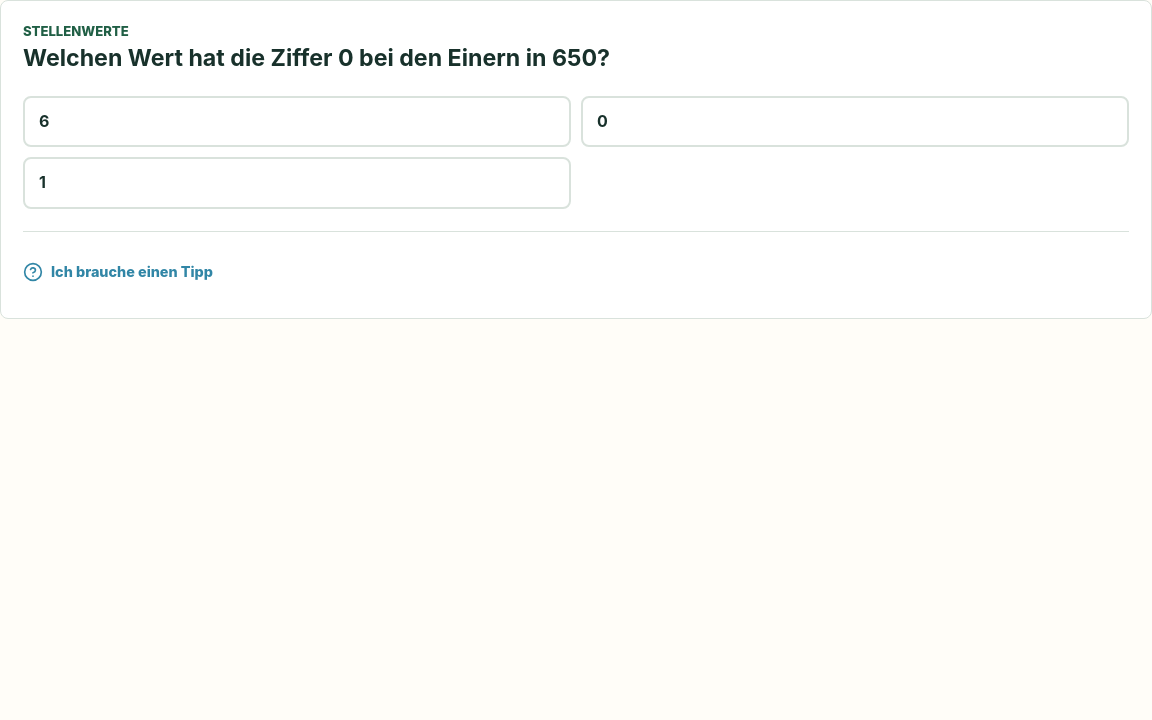
Scenario: ExerciseCard › blendet eine Hilfe-Darstellung erst mit dem Tipp ein
This screenshot has width=1152, height=720.
Click the button "Ich brauche einen Tipp" at (118,272), box [23,248,213,296]
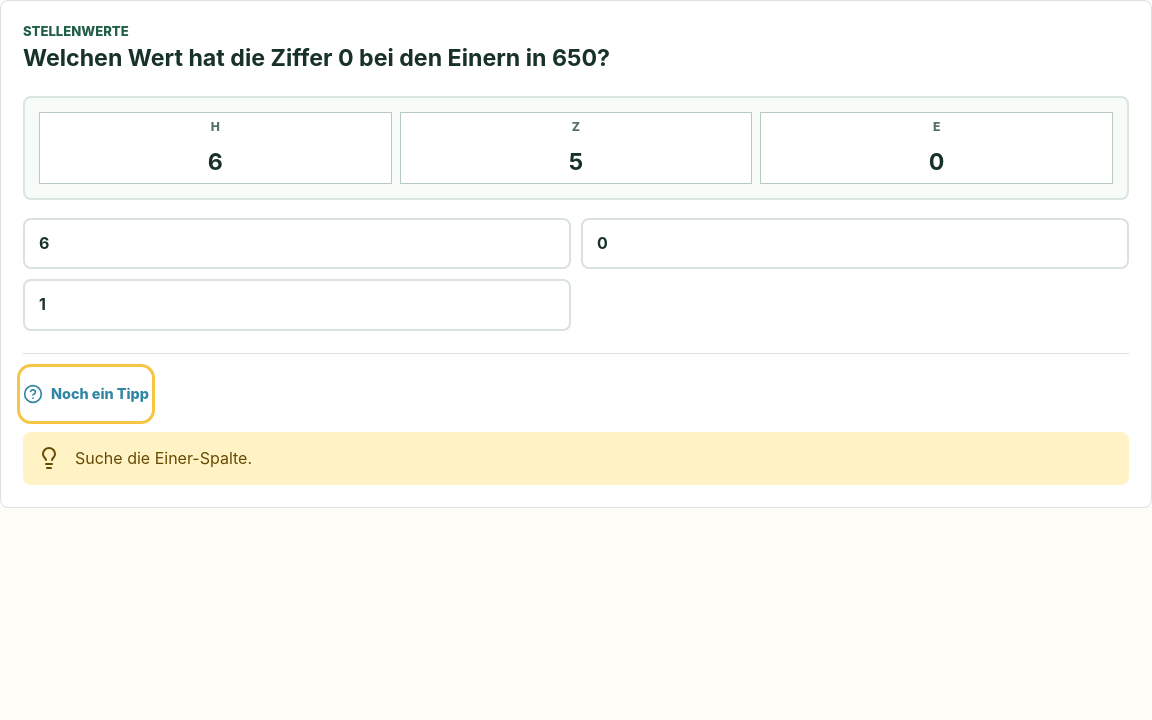
Expected: the picture named "Stellenwerttafel" is shown, [23,96,1129,200]
